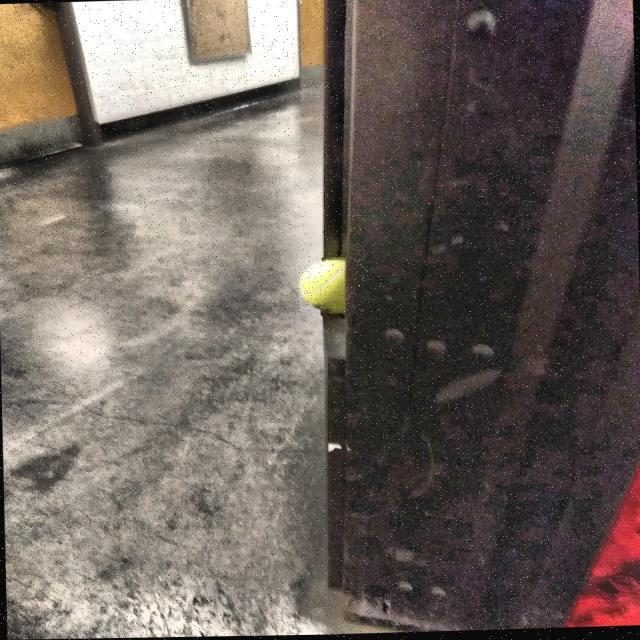tennis-ball: (298, 258, 370, 319)
